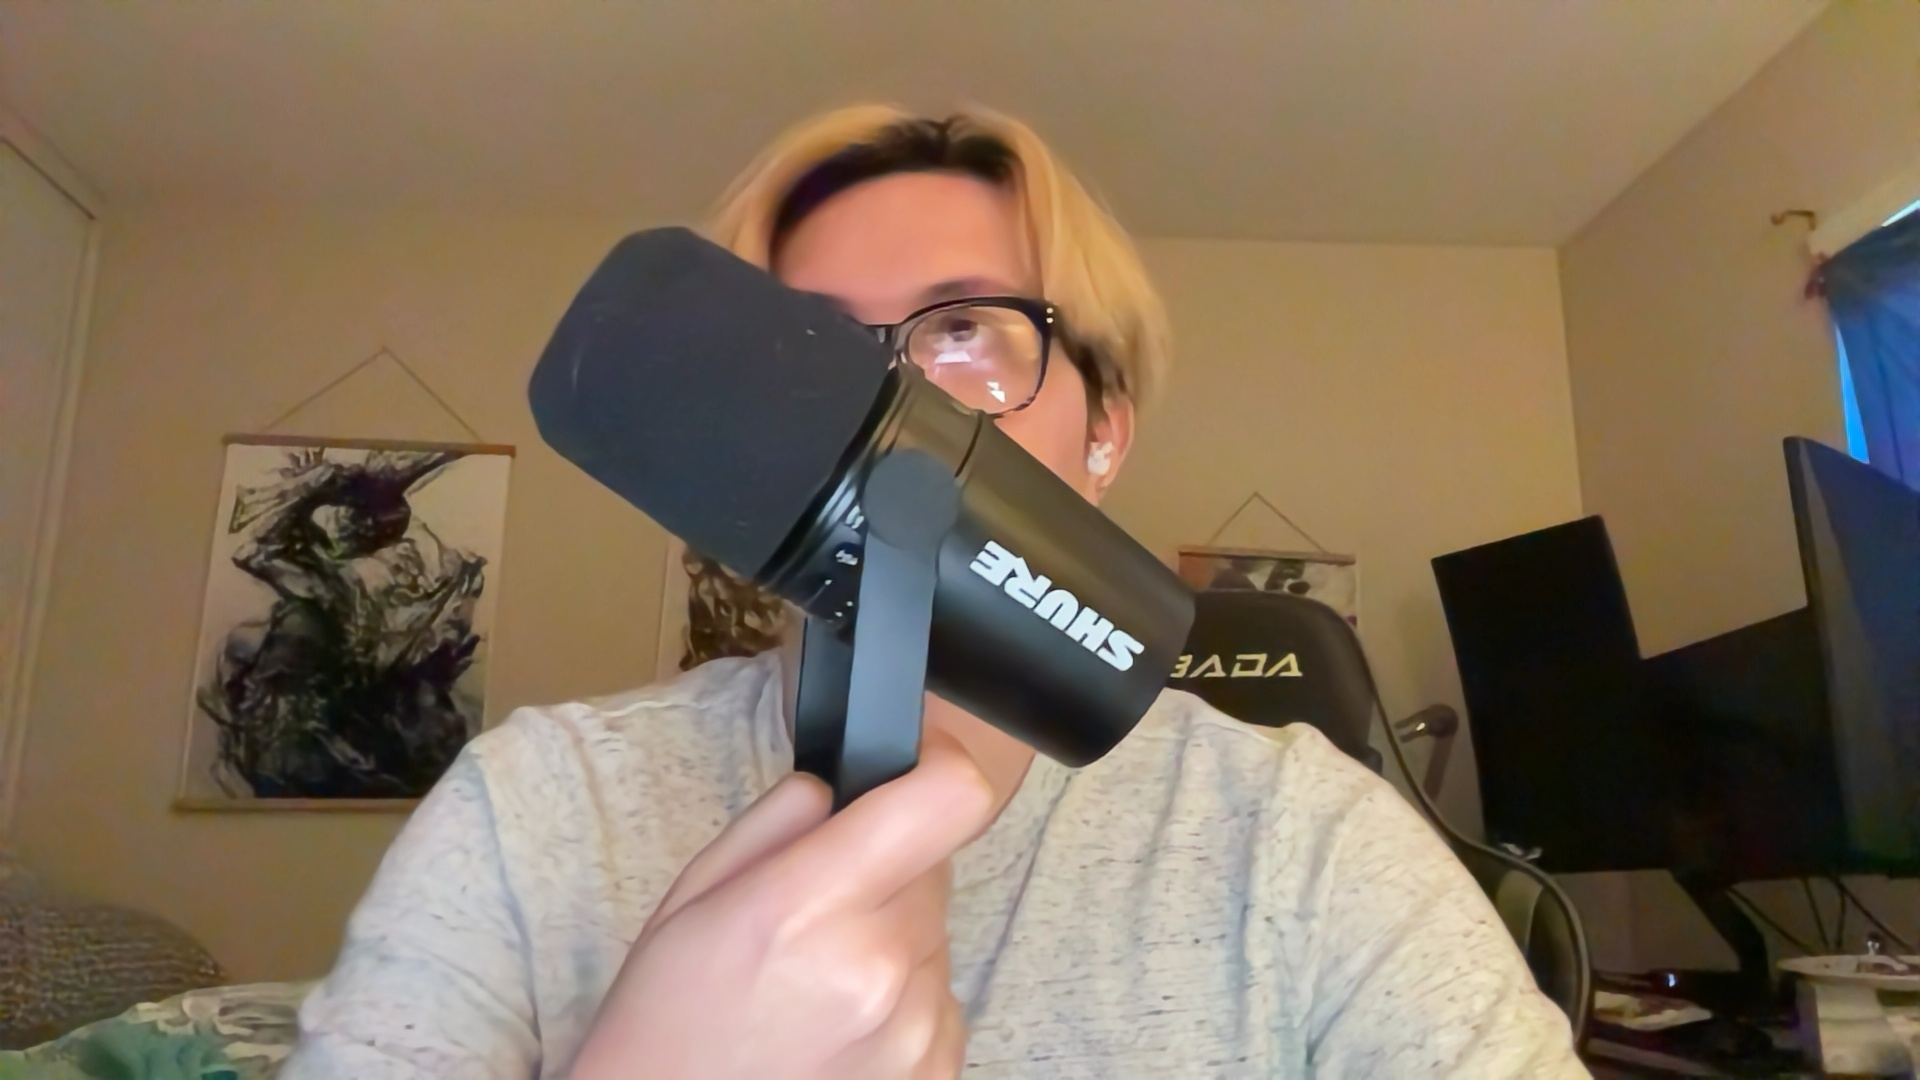microphone: (510, 210, 1196, 793)
